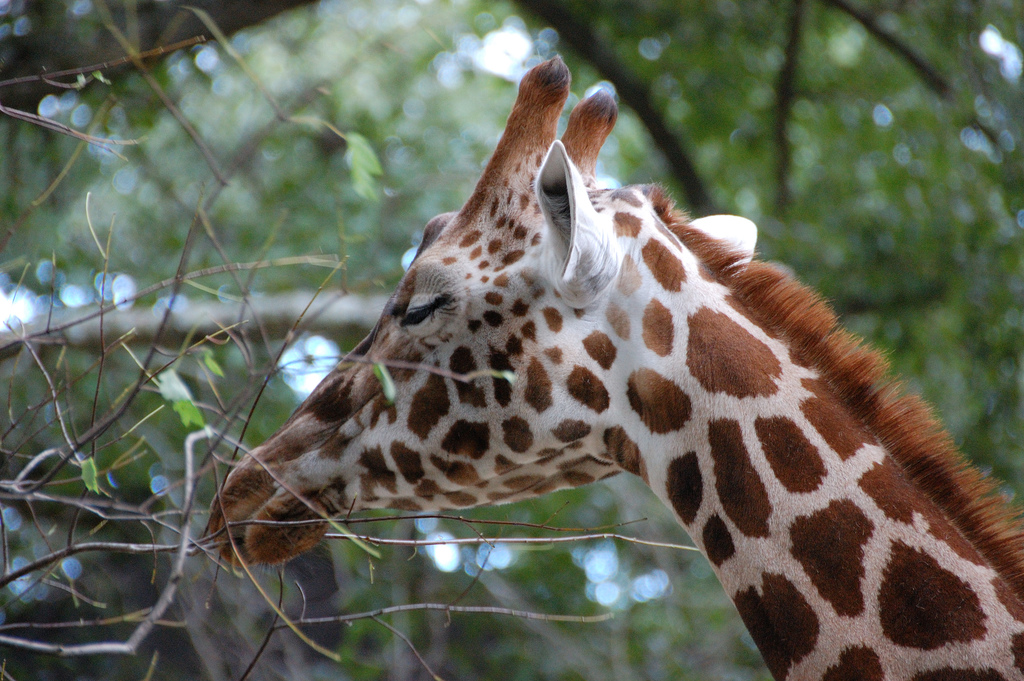giraffe: (189, 75, 1005, 667)
